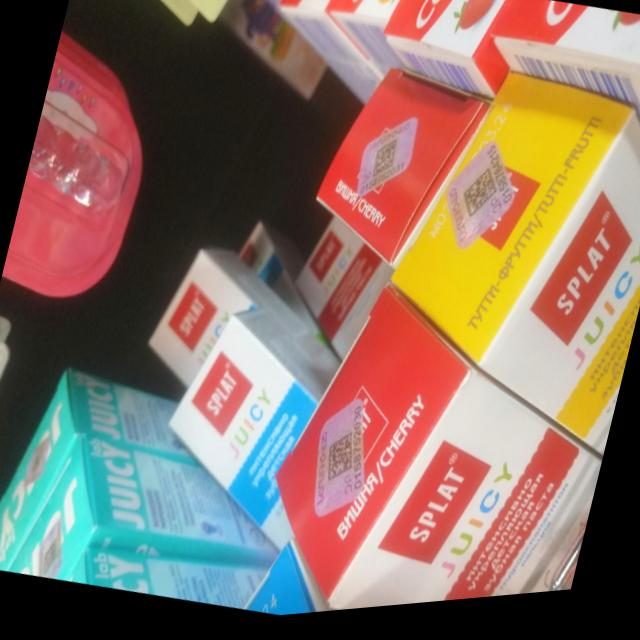datamatrix: (458, 169, 504, 234), (321, 431, 361, 491), (370, 141, 400, 189)
